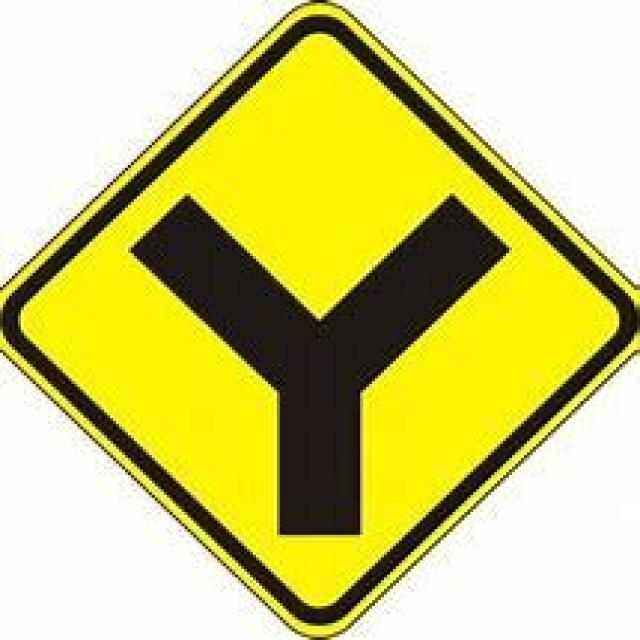light_traffic: (0, 0, 637, 637)
